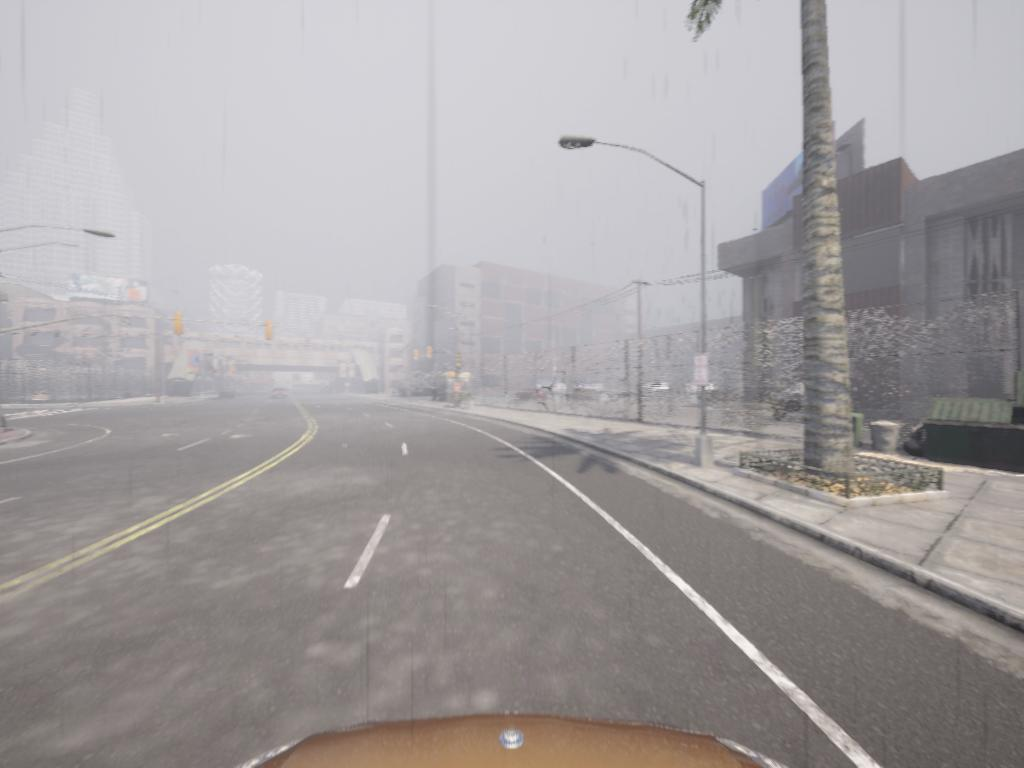traffic_light: (173, 315, 185, 337), (265, 323, 276, 342), (456, 361, 464, 381), (414, 348, 422, 366), (427, 347, 434, 366)
